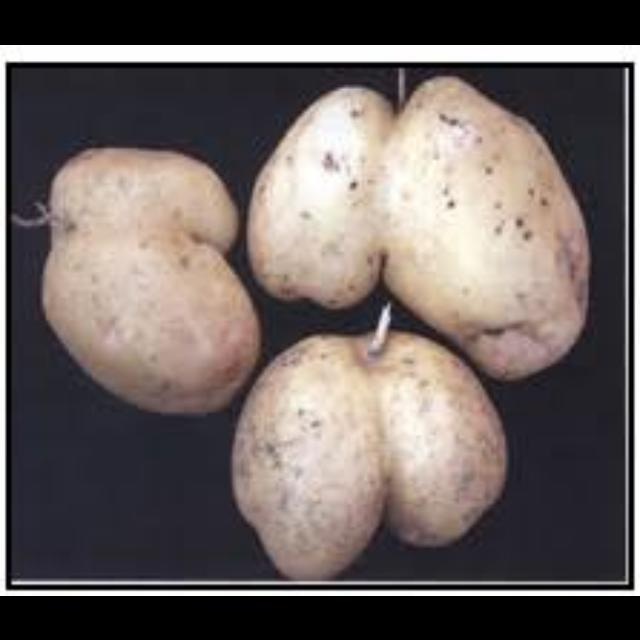Damaged potato: (247, 59, 587, 373), (232, 316, 522, 580), (29, 128, 275, 416)
